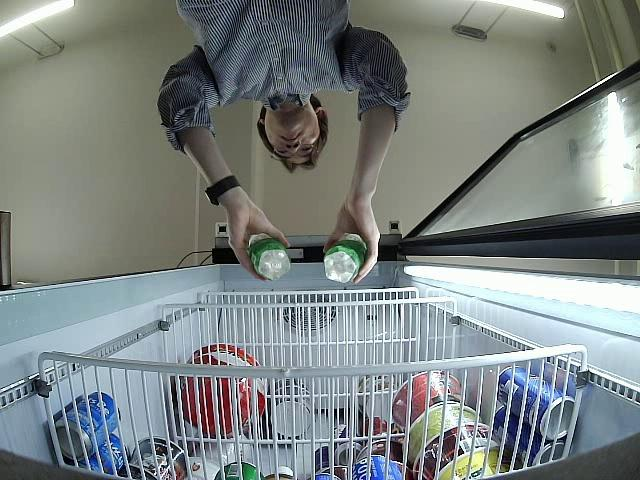00_hand: (322, 200, 381, 284), (227, 206, 291, 282)
18_trevi: (248, 232, 290, 282), (323, 235, 367, 282)
